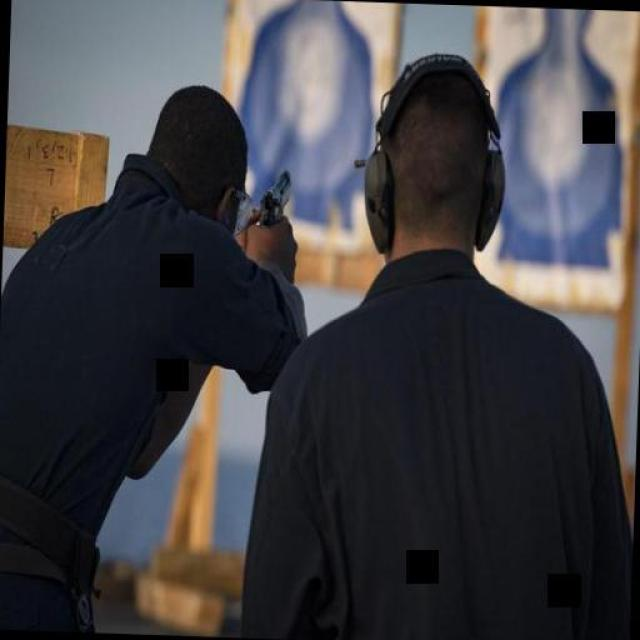gun: (254, 161, 294, 225)
